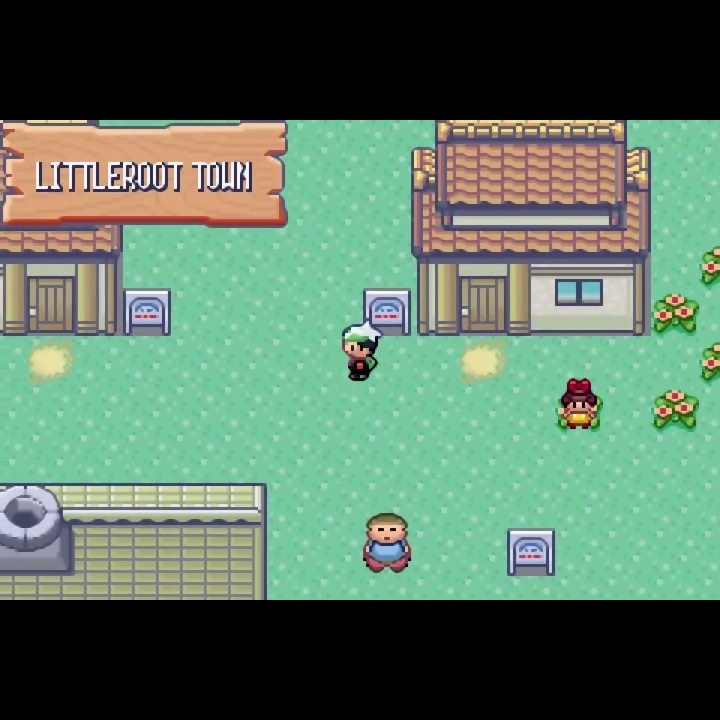house: (409, 119, 656, 342), (1, 481, 269, 601), (1, 223, 124, 341)
npc: (357, 508, 415, 576), (340, 318, 386, 384), (558, 373, 603, 434)
